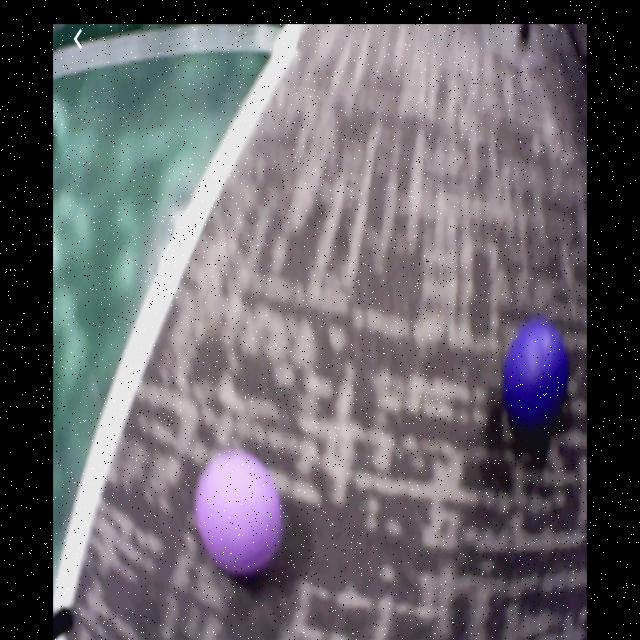ball: (198, 453, 285, 572), (504, 322, 570, 429)
